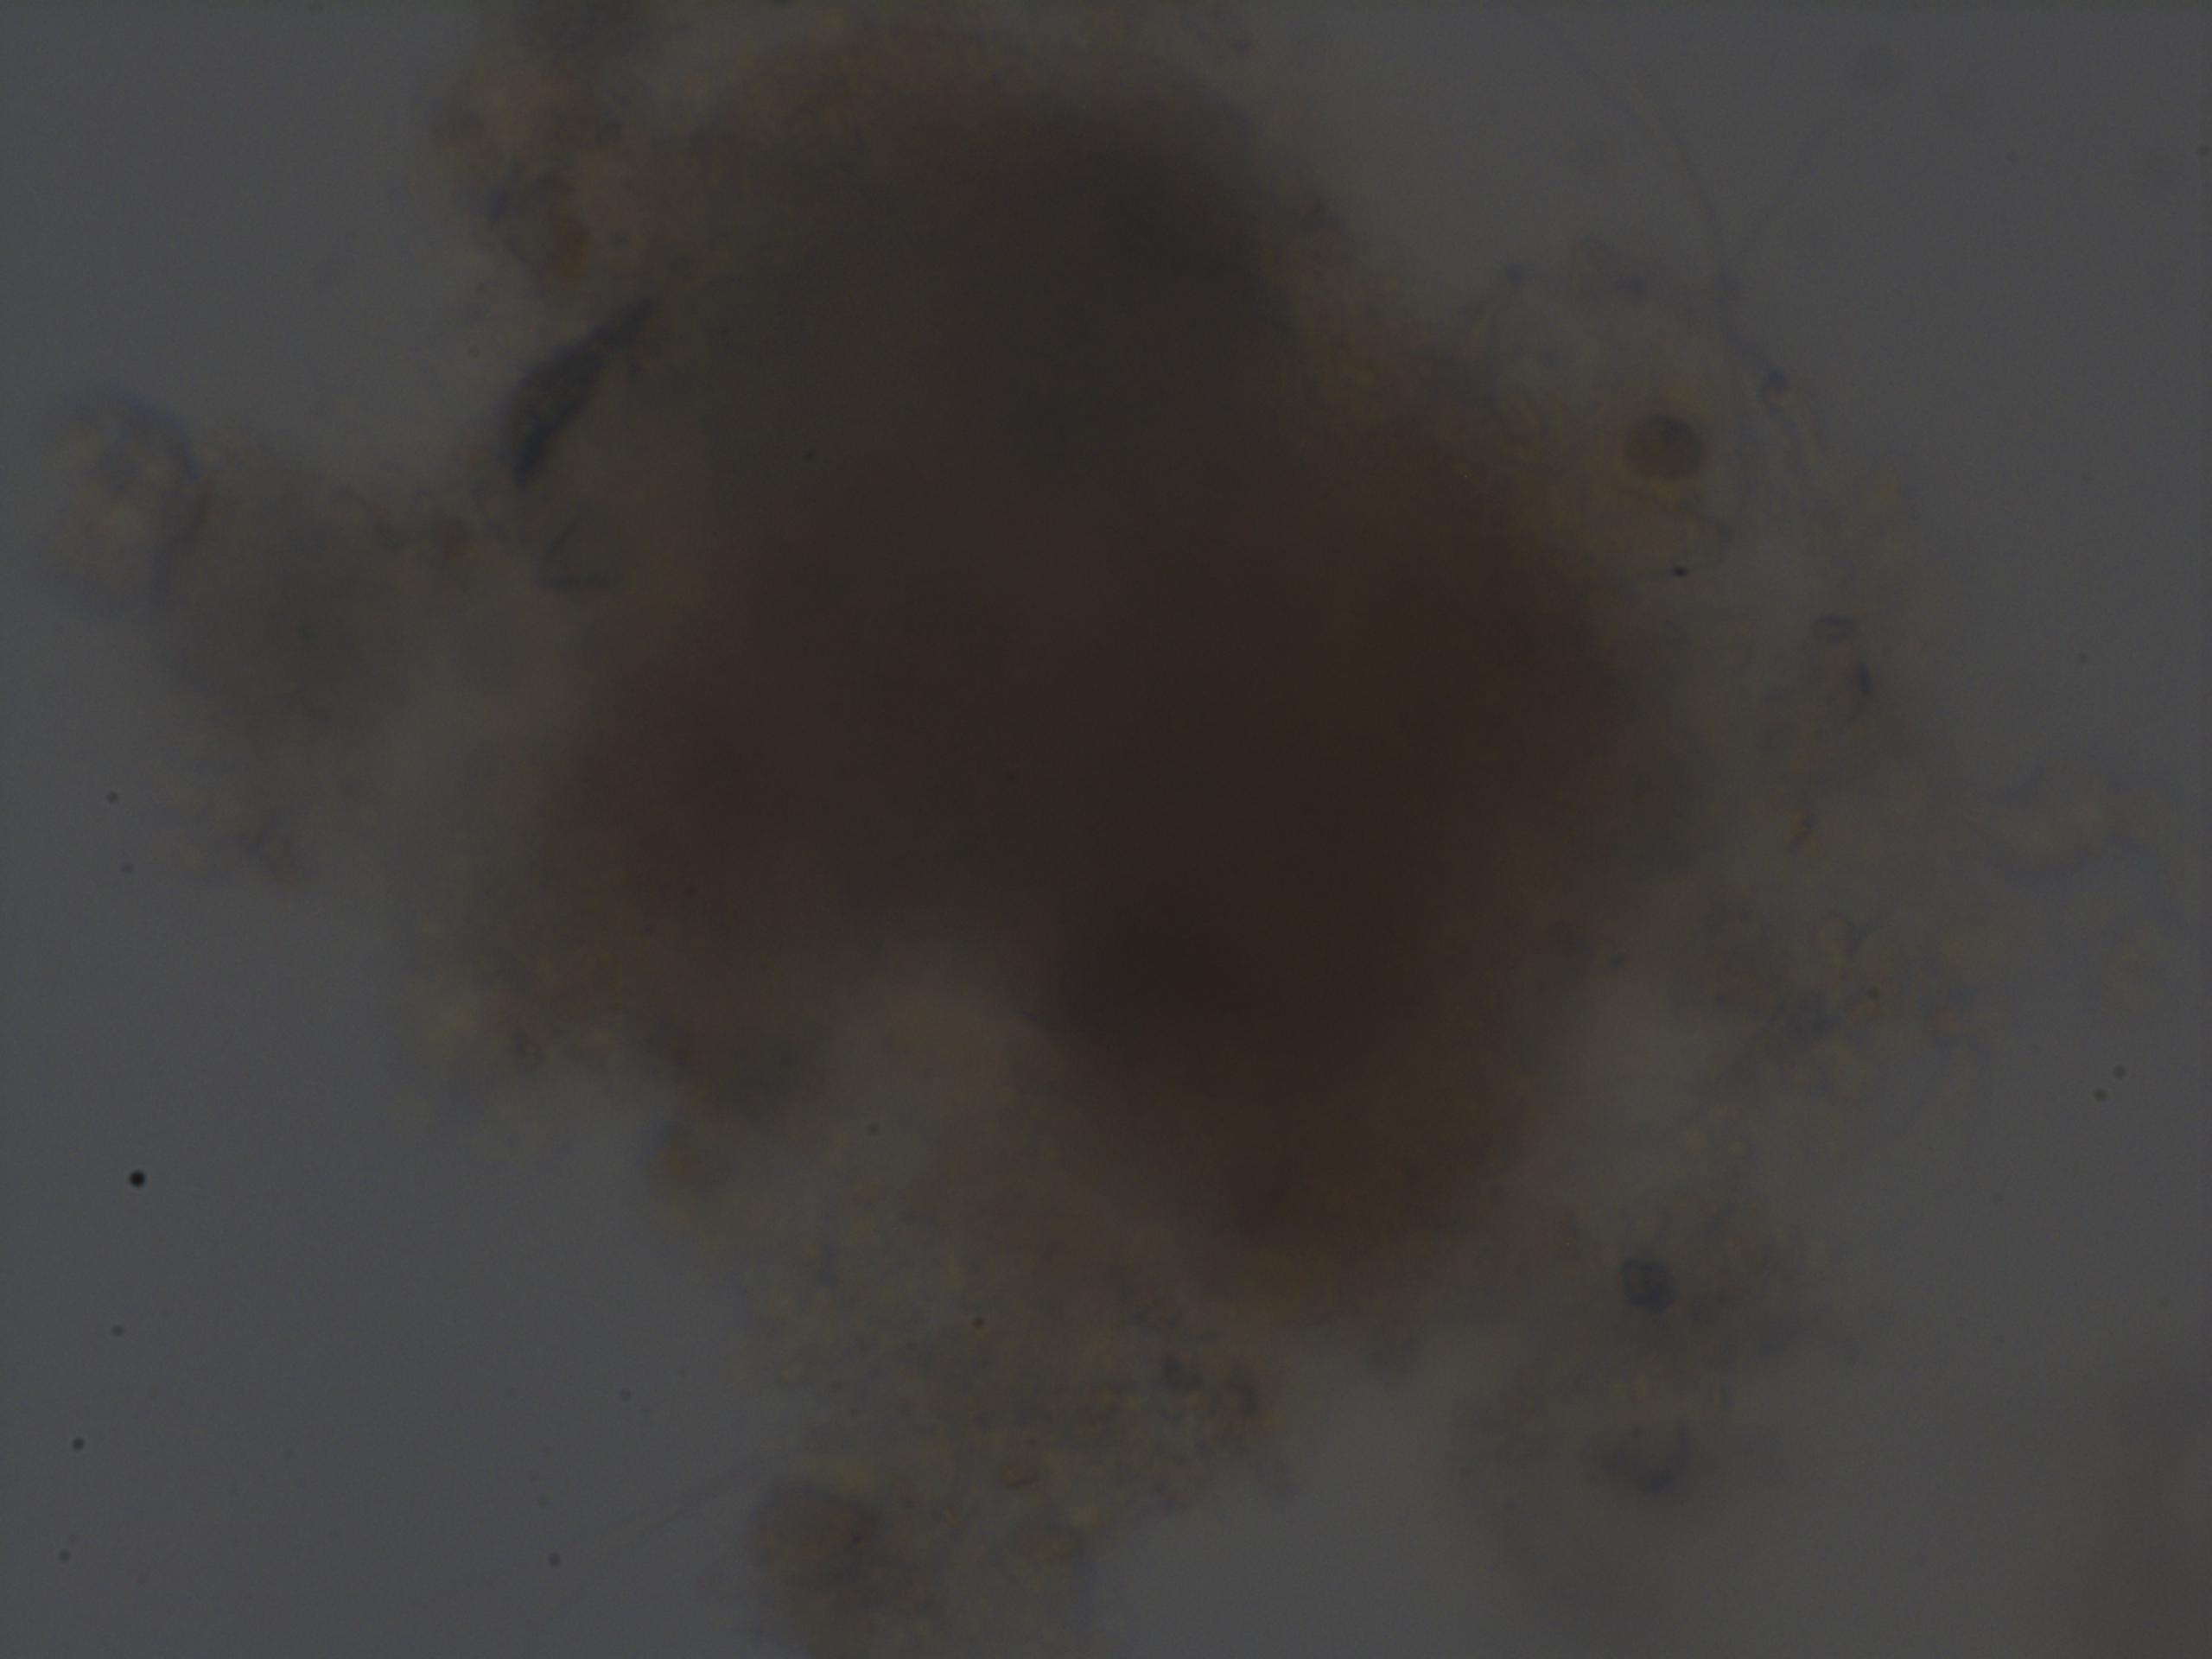spherical_floc: (406, 7, 1784, 1377)
